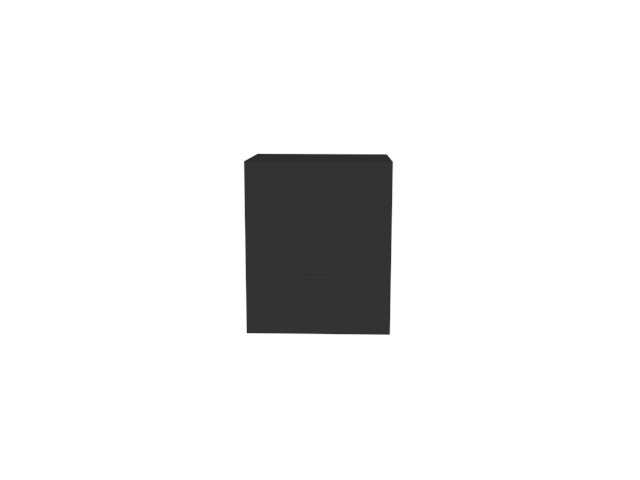file_cabinet: (241, 153, 400, 336)
